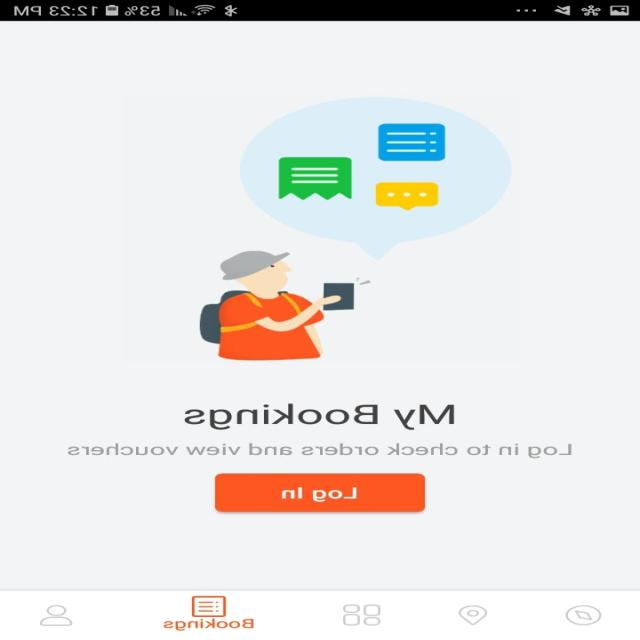Icon: (343, 604, 381, 625), (565, 604, 603, 625), (192, 596, 227, 617), (40, 604, 74, 625), (458, 604, 488, 625)
Image: (198, 96, 513, 361)
Text: (68, 442, 572, 458), (184, 403, 455, 430), (164, 618, 255, 630)
TextButton: (215, 473, 426, 512)
